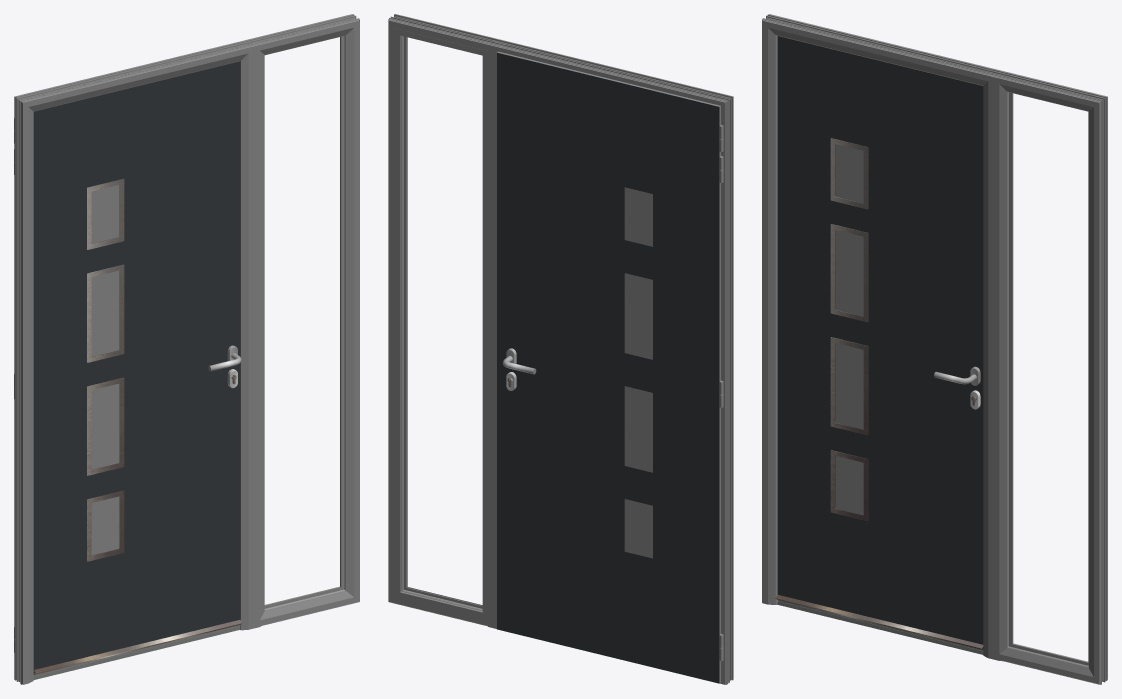
The picture shows the model from 3 angles, left to right: view 1: azimuth 30°, elevation 25°; view 2: azimuth 150°, elevation 25°; view 3: azimuth 330°, elevation 25°; orthographic projection.
Parts seen in each view (by area): view 1: bloco_145, Rectangle002, Line004, Vidro Porta, alunox_088, Object, Object001, Line005, Rectangle005, Rectangle003; view 2: bloco_145, Rectangle002, Rectangle003, Vidro Porta, Line004, Object001, Rectangle004, Object; view 3: bloco_145, Rectangle002, Line004, Vidro Porta, alunox_088, Object001, Object, Line005, Rectangle003, Rectangle005.
Boxes of the visible parts, x1=… form: bloco_145: x1=33, y1=61, x2=240, y2=671; Rectangle002: x1=14, y1=14, x2=359, y2=684; Line004: x1=240, y1=46, x2=264, y2=630; Vidro Porta: x1=91, y1=184, x2=119, y2=555; alunox_088: x1=87, y1=178, x2=124, y2=561; Object: x1=33, y1=35, x2=346, y2=680; Object001: x1=264, y1=36, x2=344, y2=608; Line005: x1=33, y1=620, x2=242, y2=674; Rectangle005: x1=33, y1=625, x2=240, y2=679; Rectangle003: x1=264, y1=37, x2=340, y2=605; bloco_145: x1=497, y1=52, x2=719, y2=683; Rectangle002: x1=388, y1=14, x2=733, y2=684; Rectangle003: x1=394, y1=28, x2=487, y2=619; Vidro Porta: x1=624, y1=187, x2=652, y2=558; Line004: x1=488, y1=41, x2=504, y2=628; Object001: x1=401, y1=36, x2=482, y2=610; Rectangle004: x1=496, y1=51, x2=720, y2=683; Object: x1=404, y1=36, x2=482, y2=608; bloco_145: x1=777, y1=36, x2=983, y2=644; Rectangle002: x1=762, y1=14, x2=1107, y2=684; Line004: x1=983, y1=77, x2=1007, y2=661; Vidro Porta: x1=835, y1=144, x2=863, y2=514; alunox_088: x1=830, y1=138, x2=868, y2=521; Object001: x1=1007, y1=92, x2=1088, y2=665; Object: x1=776, y1=35, x2=1088, y2=667; Line005: x1=775, y1=595, x2=983, y2=649; Rectangle003: x1=1012, y1=93, x2=1087, y2=662; Rectangle005: x1=777, y1=600, x2=983, y2=654.
Bounding box in the file's own units: 1307 × 2150 × 192.
7 materials, 4 textured.
